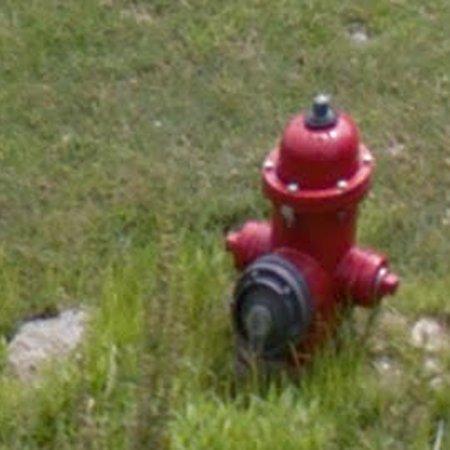a fire hydrant: (227, 95, 401, 360)
